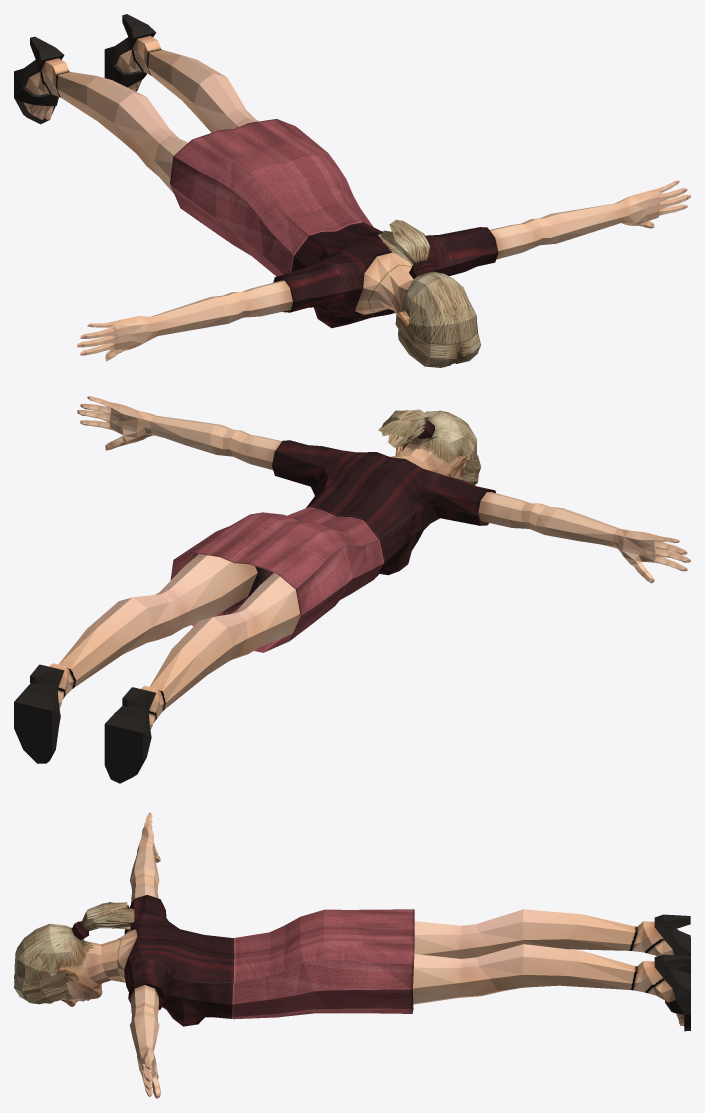
The model's file is tomdrinwoman3_3k_wtf.obj.
3 renders of one model, top to bottom at view 1: azimuth 30°, elevation 25°; view 2: azimuth 150°, elevation 25°; view 3: azimuth 270°, elevation 25°, orthographic. The views are drawn at different scales.
Visible parts, largest first — view 1: group1; view 2: group1; view 3: group1.
Boxes of the visible parts, x1,y1,x2,y2 form: group1: (14, 14, 690, 367); group1: (14, 396, 690, 783); group1: (14, 812, 690, 1098).
Bounding box in the file's own units: 613 × 119 × 660.
